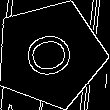O_E: (19, 27, 81, 81)
